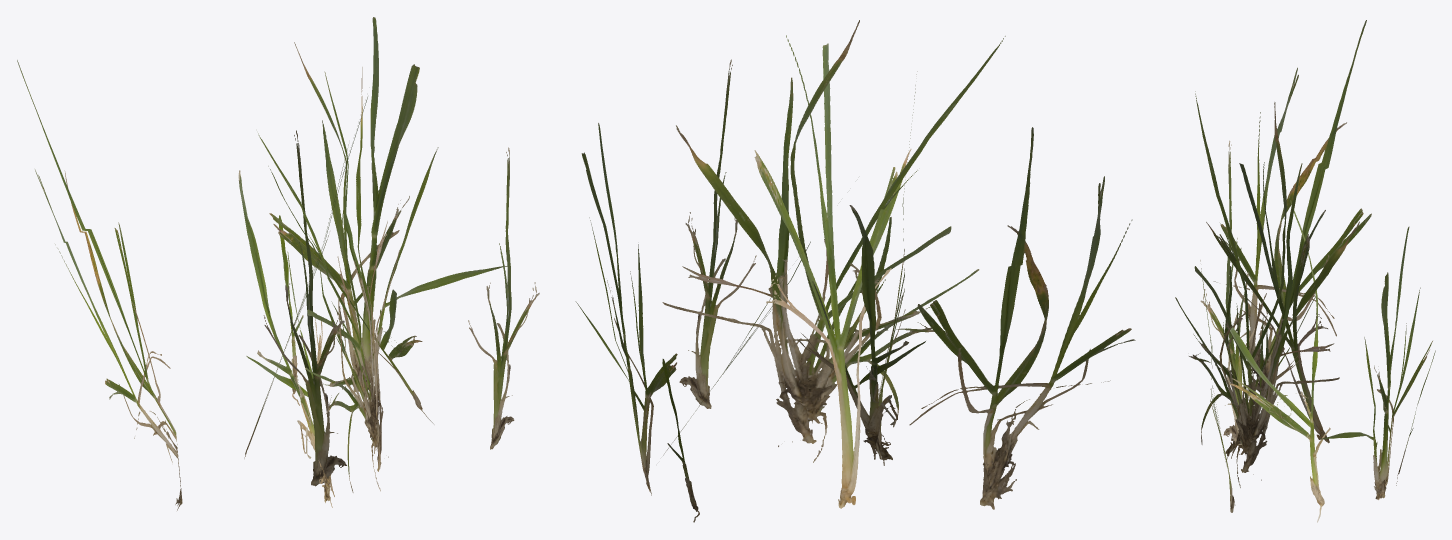
Rendered from grass_2_2.FBX.
The picture shows the model from 3 angles, left to right: view 1: azimuth 30°, elevation 25°; view 2: azimuth 150°, elevation 25°; view 3: azimuth 270°, elevation 25°; orthographic projection. The views are drawn at different scales.
Parts seen in each view (by area): view 1: grass_2_02; view 2: grass_2_02; view 3: grass_2_02.
Part boxes in pixels (<box>): grass_2_02: <box>17,17,539,510</box>; grass_2_02: <box>575,20,1135,522</box>; grass_2_02: <box>1175,20,1435,522</box>.
Size of the model in its own units: 31.64 by 28.02 by 18.08.
Materials: 1 (1 with a texture image).
